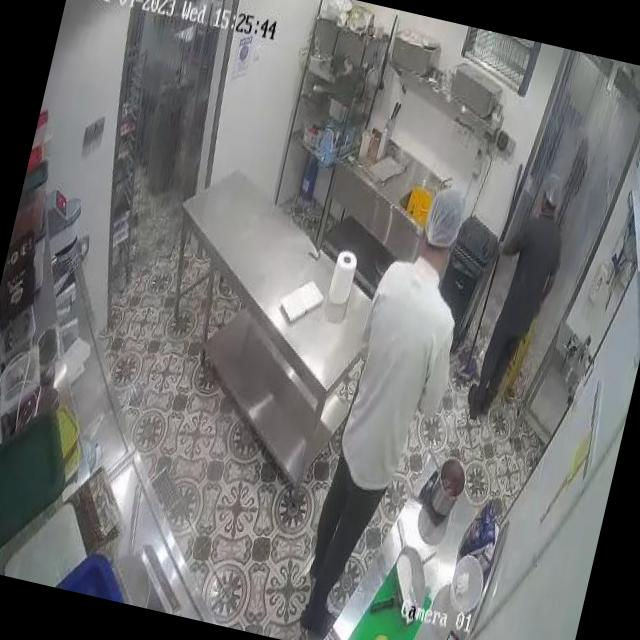hairnet: (422, 180, 468, 250), (541, 174, 565, 208)
